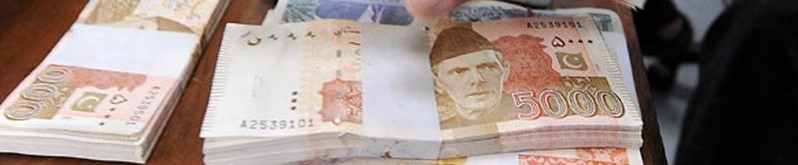5000 rupee: (220, 20, 652, 159)
